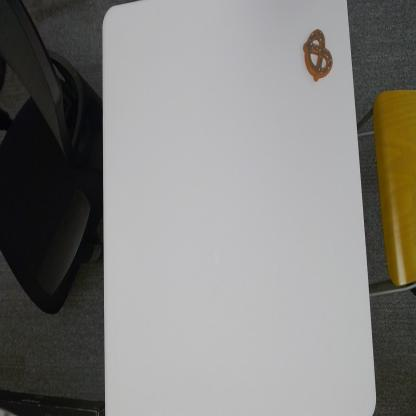Pretzel: (303, 28, 333, 84)
